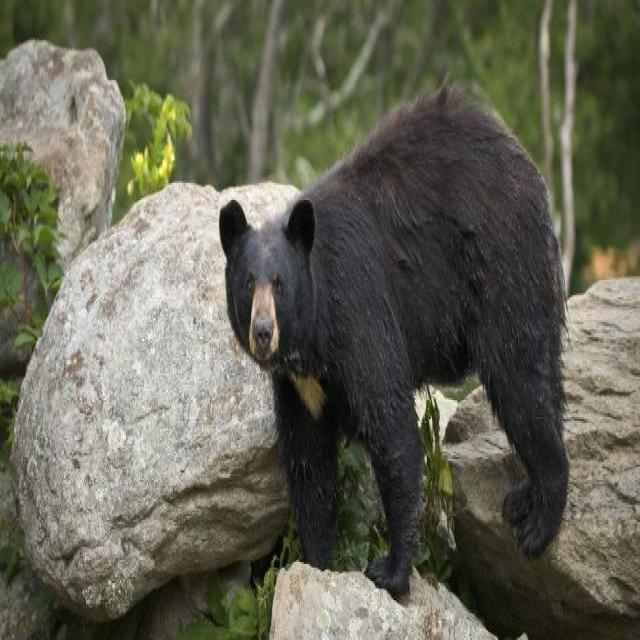Bear: (216, 84, 571, 604)
